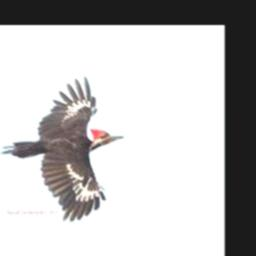Woodpecker: (0, 75, 122, 220)
